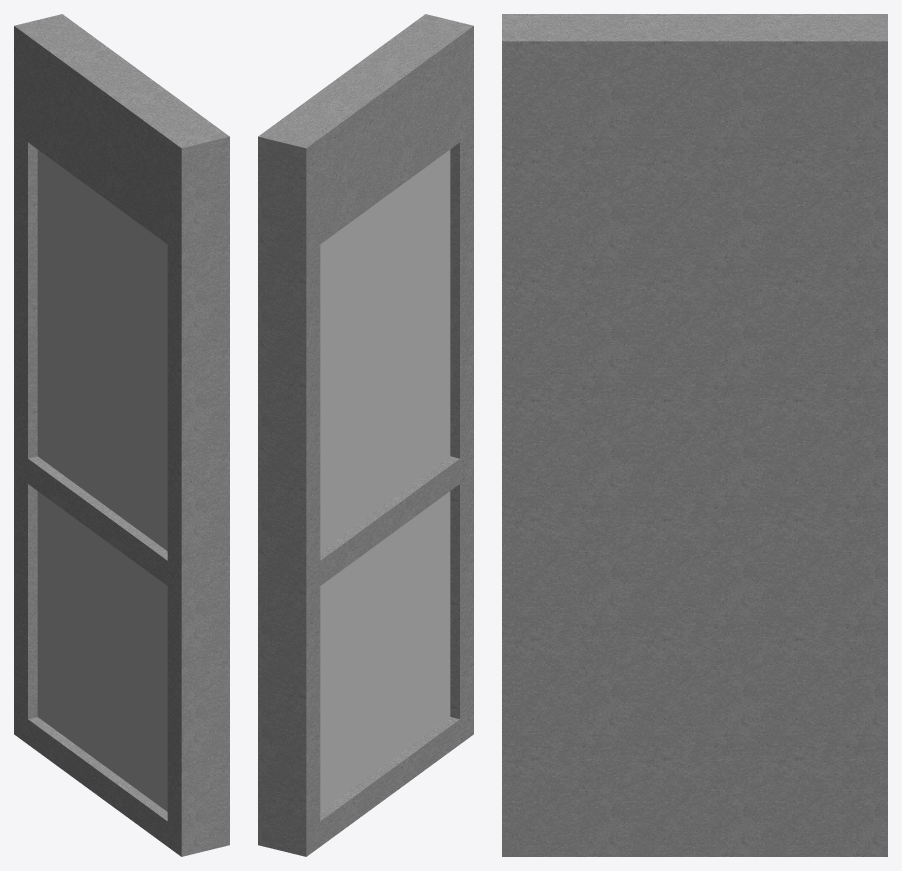
The model's file is SM_Wall_c.fbx.
The picture shows the model from 3 angles, left to right: view 1: azimuth 30°, elevation 25°; view 2: azimuth 150°, elevation 25°; view 3: azimuth 270°, elevation 25°; orthographic projection. The views are drawn at different scales.
Parts seen in each view (by area): view 1: SM_Wall_c_LOD0; view 2: SM_Wall_c_LOD0; view 3: SM_Wall_c_LOD0.
Boxes of the visible parts, bbox=[...] form: SM_Wall_c_LOD0: bbox=[14, 14, 229, 856]; SM_Wall_c_LOD0: bbox=[258, 14, 473, 856]; SM_Wall_c_LOD0: bbox=[502, 14, 887, 856].
Size of the model in its own units: 100 by 600 by 1400.
2 materials, 1 textured.
